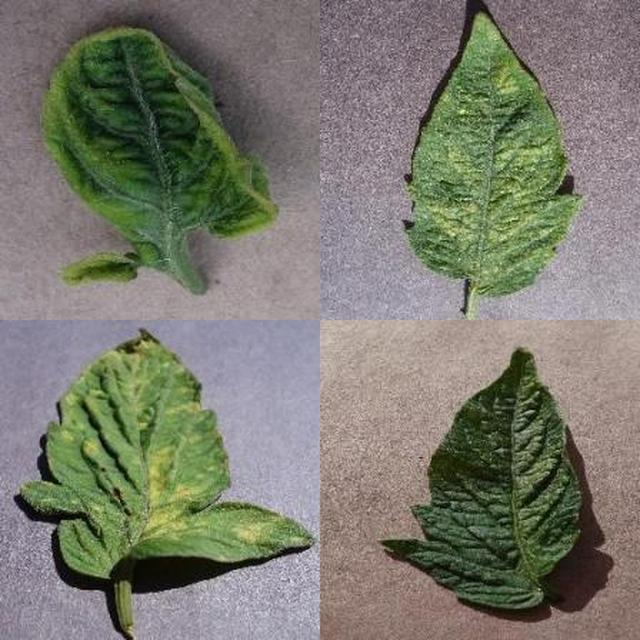Yellow Leaf Curl Virus: (110, 49, 640, 640)
